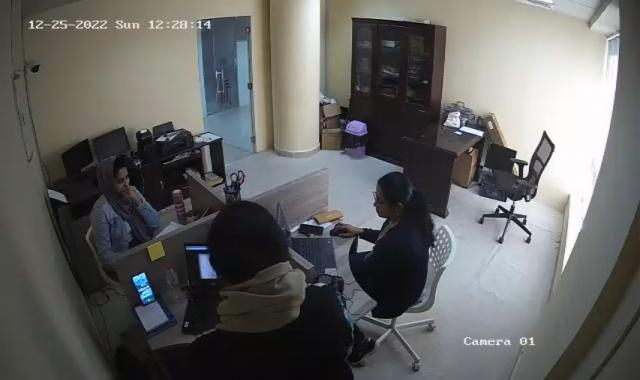no_hairnet: (207, 202, 293, 284), (371, 169, 421, 220), (96, 158, 135, 188)
